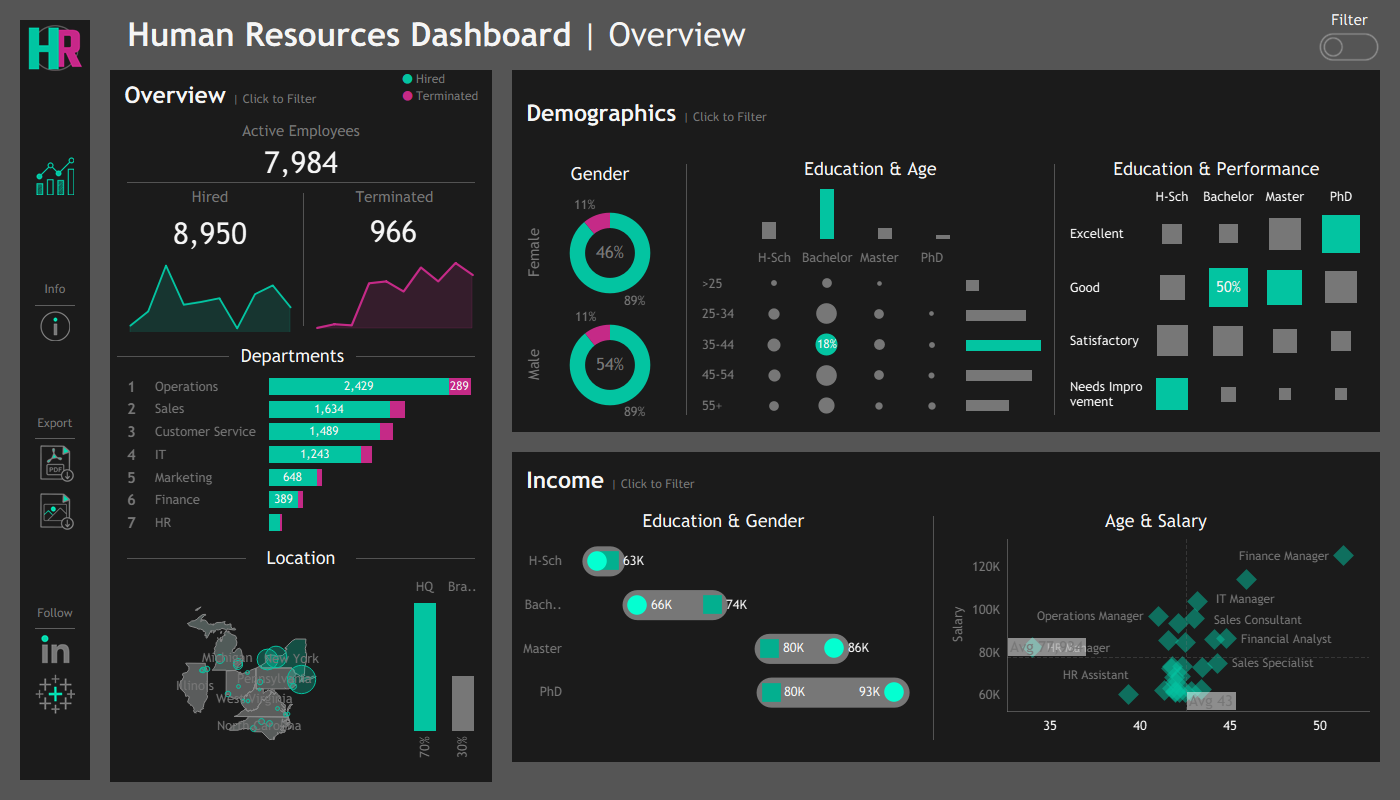

What the dashboard file says about the page in this screenshot:
{"tool":"tableau","page":{"name":"HR | Summary","canvas":[1400,800],"ordinal":0},"visuals":[{"type":"text","box":[110,0,693,70]},{"type":"blank","box":[803,0,577,70]},{"type":"text","box":[1307,6,85,28]},{"type":"filter","title":"Gender vs Education Level","param":"[federated.0zlhacs1wvo7km17wpmd4126ap8h].[none:Gender:nk]","box":[770,8,131,55]},{"type":"filter","title":"Gender vs Education Level","param":"[federated.0zlhacs1wvo7km17wpmd4126ap8h].[none:Calculation_1605304348823552:nk]","box":[901,8,131,55]},{"type":"filter","title":"Gender vs Education Level","param":"[federated.0zlhacs1wvo7km17wpmd4126ap8h].[none:Calculation_2157258641866757:nk]","box":[1032,8,131,55]},{"type":"filter","title":"Gender vs Education Level","param":"[federated.0zlhacs1wvo7km17wpmd4126ap8h].[yr:Hiredate:ok]","box":[1163,8,131,55]},{"type":"dashboard-object","box":[1318,18,61,57]},{"type":"image","param":"Image/Logo.png","box":[20,20,70,55]},{"type":"text","box":[399,72,87,33]},{"type":"text","box":[117,77,368,35]},{"type":"text","box":[519,77,854,72]},{"type":"blank","box":[30,85,50,72.5]},{"type":"text","box":[117,112,368,32]},{"type":"worksheet","title":"BAN Active","mark":"Text","box":[117,144,368,38]},{"type":"text","box":[519,154,162,39]},{"type":"blank","box":[686,154,1,271]},{"type":"text","box":[692,154,357,29]},{"type":"blank","box":[1054,154,1,271]},{"type":"text","box":[1060,154,313,29]},{"type":"dashboard-object","box":[30,157.5,50,38]},{"type":"blank","box":[117,182,368,1]},{"type":"text","box":[117,183,186,27]},{"type":"blank","box":[303,183,1,153]},{"type":"text","box":[304,183,180.9,27]},{"type":"worksheet","title":"Education Levels","mark":"Bar","rows":["Calculation_2157258634756096"],"cols":["Education Level"],"box":[692,183,357,61]},{"type":"worksheet","title":"Education vs Performance","mark":"Square","rows":["Performance Rating"],"cols":["Education Level"],"box":[1060,183,313,242]},{"type":"worksheet","title":"Gender","mark":"Pie","rows":["Gender"],"cols":["Calculation_1057197585059841","Calculation_1057197585059841"],"box":[519,193,162,232]},{"type":"blank","box":[30,195.5,50,10]},{"type":"blank","box":[30,205.5,50,72.5]},{"type":"worksheet","title":"BAN Hired","mark":"Text","box":[117,210,186,47]},{"type":"worksheet","title":"BAN Terminated","mark":"Text","box":[304,210,180.9,44]},{"type":"worksheet","title":"Age vs Education","mark":"Circle","rows":["Calculation_1057197588271107"],"cols":["Education Level"],"box":[692,244,270,181]},{"type":"worksheet","title":"Age Groups","mark":"Bar","rows":["Calculation_1057197588271107"],"cols":["Calculation_2157258634756096"],"box":[962,244,87,181]},{"type":"text","box":[89,246,1311,265]},{"type":"worksheet","title":"Terminated By Year","mark":"Line","rows":["Calculation_2157258634911745","Calculation_2157258634911745"],"cols":["Termdate"],"box":[304,254,180.9,82]},{"type":"worksheet","title":"HIred By Year","mark":"Line","rows":["Calculation_2157258634756096","Calculation_2157258634756096"],"cols":["Hiredate"],"box":[117,257,186,79]},{"type":"text","box":[30,278,50,22]},{"type":"blank","box":[30,300,50,11]},{"type":"dashboard-object","box":[30,311,50,30]},{"type":"blank","box":[30,341,50,72.5]},{"type":"blank","box":[117,341,112,30]},{"type":"text","box":[229,341,127,30]},{"type":"blank","box":[356,341,119,30]},{"type":"worksheet","title":"Departments","mark":"Bar","rows":["Calculation_2157258641293316","Department"],"cols":["Calculation_2157258634756096"],"box":[117,371,368,167]},{"type":"text","box":[30,413.5,50,20]},{"type":"blank","box":[30,433.5,50,11]},{"type":"dashboard-object","box":[30,444.5,50,38]},{"type":"text","box":[519,459,854,42]},{"type":"blank","box":[30,482.5,50,10]},{"type":"dashboard-object","box":[30,492.5,50,38]},{"type":"text","box":[519,506,409,29]},{"type":"blank","box":[933,506,1,244]},{"type":"text","box":[939,506,434,29]},{"type":"blank","box":[89,511,1311,288]},{"type":"blank","box":[30,530.5,50,72.5]},{"type":"worksheet","title":"Gender vs Education Level","mark":"Square","rows":["Education Level"],"cols":["Salary","Salary"],"box":[519,535,409,183]},{"type":"worksheet","title":"Age vs Salary","mark":"Shape","rows":["Salary"],"cols":["Calculation_1057197587189762"],"box":[939,535,434,215]},{"type":"blank","box":[127,543,118.7,30]},{"type":"text","box":[245.7,543,110.7,30]},{"type":"blank","box":[356.3,543,118.7,30]},{"type":"worksheet","title":"Map States","mark":"Automatic","box":[117,573,285,202]},{"type":"worksheet","title":"Location","mark":"Bar","rows":["Calculation_2157258634756096"],"cols":["Calculation_2157258641866757","Calculation1"],"box":[402,573,83,202]},{"type":"text","box":[30,603,50,20]},{"type":"blank","box":[30,623,50,11]},{"type":"image","param":"Image/contact-linkedin.png","box":[30,634,50,30]},{"type":"blank","box":[30,664,50,10]},{"type":"image","param":"Image/contact-public.png","box":[30,674,50,40]}]}

Visuals, with their boxes in screenshot pixels (x1, y1, x2, y2), scaled from the page's 1400x800 canvas onto the 1400x800 screenshot:
text: <bbox>110, 0, 803, 70</bbox>
blank: <bbox>803, 0, 1380, 70</bbox>
text: <bbox>1307, 6, 1392, 34</bbox>
"Gender vs Education Level" filter: <bbox>770, 8, 901, 63</bbox>
"Gender vs Education Level" filter: <bbox>901, 8, 1032, 63</bbox>
"Gender vs Education Level" filter: <bbox>1032, 8, 1163, 63</bbox>
"Gender vs Education Level" filter: <bbox>1163, 8, 1294, 63</bbox>
dashboard-object: <bbox>1318, 18, 1379, 75</bbox>
image: <bbox>20, 20, 90, 75</bbox>
text: <bbox>399, 72, 486, 105</bbox>
text: <bbox>117, 77, 485, 112</bbox>
text: <bbox>519, 77, 1373, 149</bbox>
blank: <bbox>30, 85, 80, 158</bbox>
text: <bbox>117, 112, 485, 144</bbox>
"BAN Active" worksheet (Text marks): <bbox>117, 144, 485, 182</bbox>
text: <bbox>519, 154, 681, 193</bbox>
blank: <bbox>686, 154, 687, 425</bbox>
text: <bbox>692, 154, 1049, 183</bbox>
blank: <bbox>1054, 154, 1055, 425</bbox>
text: <bbox>1060, 154, 1373, 183</bbox>
dashboard-object: <bbox>30, 158, 80, 196</bbox>
blank: <bbox>117, 182, 485, 183</bbox>
text: <bbox>117, 183, 303, 210</bbox>
blank: <bbox>303, 183, 304, 336</bbox>
text: <bbox>304, 183, 485, 210</bbox>
"Education Levels" worksheet (Bar marks): <bbox>692, 183, 1049, 244</bbox>
"Education vs Performance" worksheet (Square marks): <bbox>1060, 183, 1373, 425</bbox>
"Gender" worksheet (Pie marks): <bbox>519, 193, 681, 425</bbox>
blank: <bbox>30, 196, 80, 206</bbox>
blank: <bbox>30, 206, 80, 278</bbox>
"BAN Hired" worksheet (Text marks): <bbox>117, 210, 303, 257</bbox>
"BAN Terminated" worksheet (Text marks): <bbox>304, 210, 485, 254</bbox>
"Age vs Education" worksheet (Circle marks): <bbox>692, 244, 962, 425</bbox>
"Age Groups" worksheet (Bar marks): <bbox>962, 244, 1049, 425</bbox>
text: <bbox>89, 246, 1399, 511</bbox>
"Terminated By Year" worksheet (Line marks): <bbox>304, 254, 485, 336</bbox>
"HIred By Year" worksheet (Line marks): <bbox>117, 257, 303, 336</bbox>
text: <bbox>30, 278, 80, 300</bbox>
blank: <bbox>30, 300, 80, 311</bbox>
dashboard-object: <bbox>30, 311, 80, 341</bbox>
blank: <bbox>30, 341, 80, 414</bbox>
blank: <bbox>117, 341, 229, 371</bbox>
text: <bbox>229, 341, 356, 371</bbox>
blank: <bbox>356, 341, 475, 371</bbox>
"Departments" worksheet (Bar marks): <bbox>117, 371, 485, 538</bbox>
text: <bbox>30, 414, 80, 434</bbox>
blank: <bbox>30, 434, 80, 444</bbox>
dashboard-object: <bbox>30, 444, 80, 482</bbox>
text: <bbox>519, 459, 1373, 501</bbox>
blank: <bbox>30, 482, 80, 492</bbox>
dashboard-object: <bbox>30, 492, 80, 530</bbox>
text: <bbox>519, 506, 928, 535</bbox>
blank: <bbox>933, 506, 934, 750</bbox>
text: <bbox>939, 506, 1373, 535</bbox>
blank: <bbox>89, 511, 1399, 799</bbox>
blank: <bbox>30, 530, 80, 603</bbox>
"Gender vs Education Level" worksheet (Square marks): <bbox>519, 535, 928, 718</bbox>
"Age vs Salary" worksheet (Shape marks): <bbox>939, 535, 1373, 750</bbox>
blank: <bbox>127, 543, 246, 573</bbox>
text: <bbox>246, 543, 356, 573</bbox>
blank: <bbox>356, 543, 475, 573</bbox>
"Map States" worksheet: <bbox>117, 573, 402, 775</bbox>
"Location" worksheet (Bar marks): <bbox>402, 573, 485, 775</bbox>
text: <bbox>30, 603, 80, 623</bbox>
blank: <bbox>30, 623, 80, 634</bbox>
image: <bbox>30, 634, 80, 664</bbox>
blank: <bbox>30, 664, 80, 674</bbox>
image: <bbox>30, 674, 80, 714</bbox>
